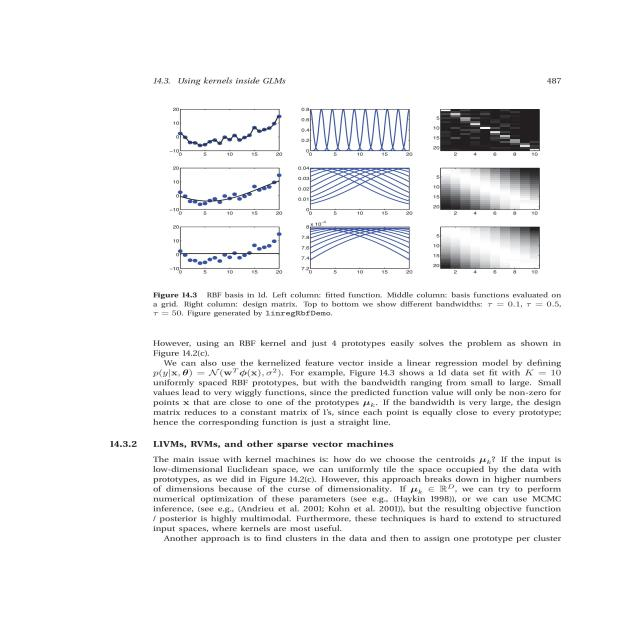diagram: (115, 70, 598, 317)
